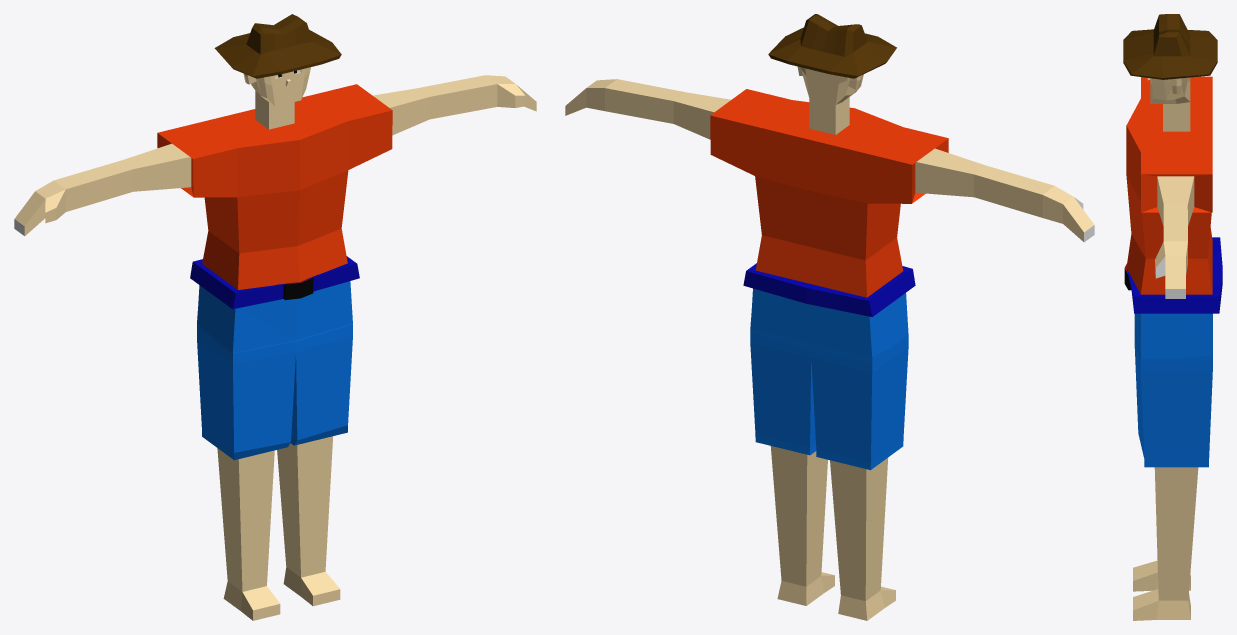
Rendered from gaint-fixed.fbx.
The picture shows the model from 3 angles, left to right: view 1: azimuth 30°, elevation 25°; view 2: azimuth 150°, elevation 25°; view 3: azimuth 270°, elevation 25°; orthographic projection.
Visible parts, largest first — view 1: 立方体; view 2: 立方体; view 3: 立方体.
Part boxes in pixels (bbox=[...]): 立方体: bbox=[14, 14, 536, 620]; 立方体: bbox=[565, 14, 1094, 620]; 立方体: bbox=[1123, 14, 1222, 620].
Size of the model in its own units: 712 by 764 by 120.
